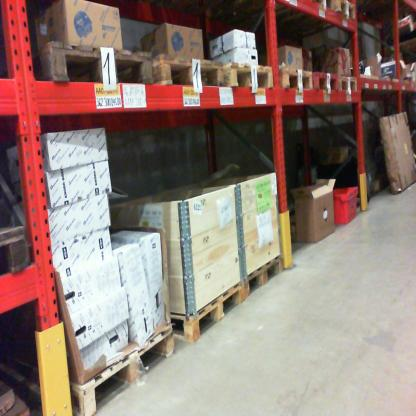pallet: (18, 319, 182, 413), (20, 25, 158, 101), (170, 281, 250, 357), (269, 2, 365, 48), (151, 51, 222, 100), (228, 2, 329, 32), (1, 211, 36, 287), (222, 54, 281, 93), (243, 251, 283, 298), (280, 62, 319, 96), (310, 71, 339, 97), (336, 71, 365, 96)
small_load_carrier: (321, 176, 363, 227)
